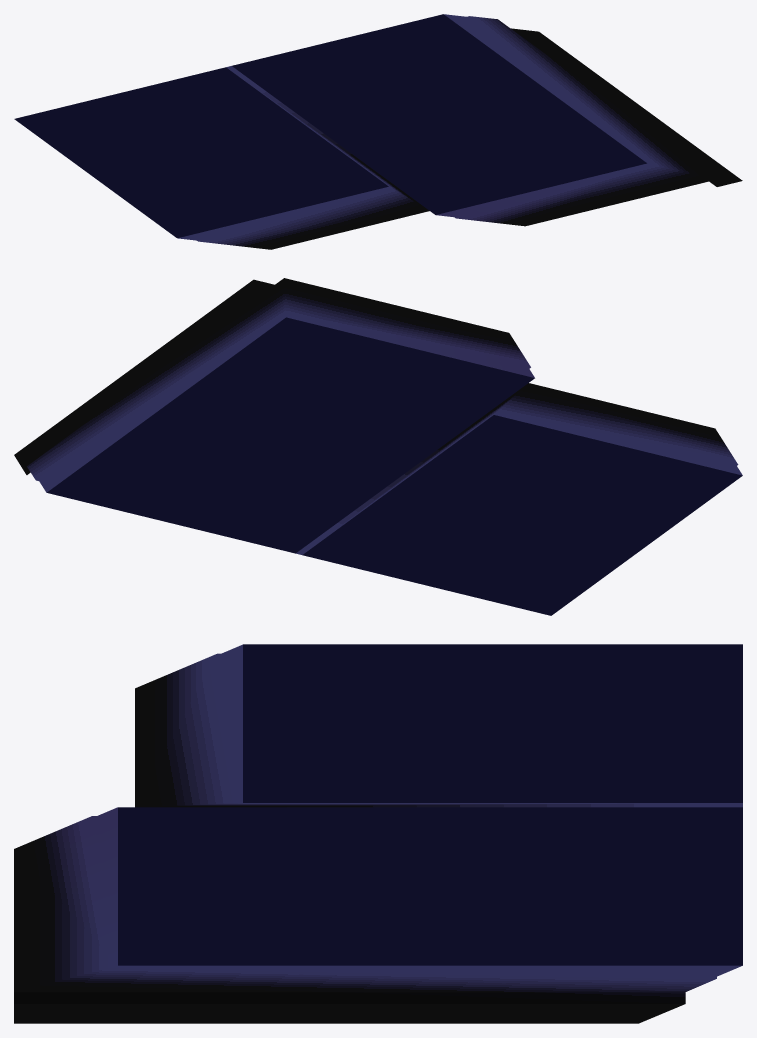
3 views of the same model, one above another, from view 1: azimuth 30°, elevation 25°; view 2: azimuth 150°, elevation 25°; view 3: azimuth 270°, elevation 25° (orthographic). The views are drawn at different scales.
Visible parts, largest first — view 1: Joint_0_Object_0; view 2: Joint_0_Object_0; view 3: Joint_0_Object_0.
Boxes of the visible parts, x1,y1,x2,y2 form: Joint_0_Object_0: (14,14,742,249); Joint_0_Object_0: (14,278,742,615); Joint_0_Object_0: (14,644,742,1023).
Size of the model in its own units: 1738 by 26 by 1458.
1 material, 1 textured.
